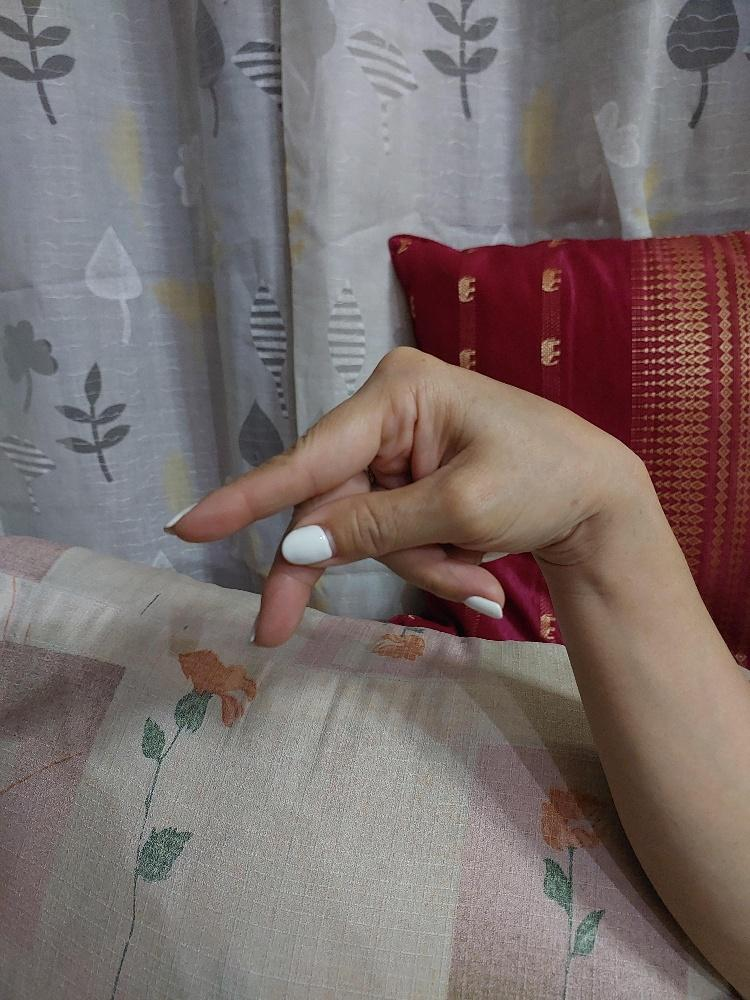p: (159, 339, 618, 649)
